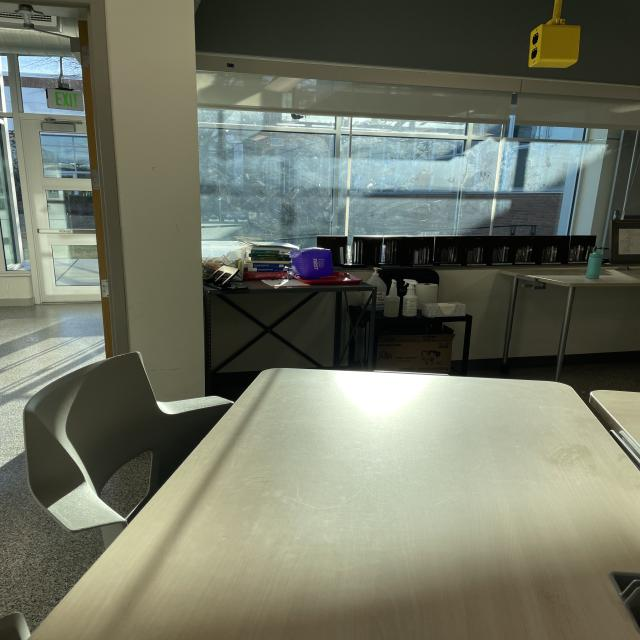frc_cube: (288, 244, 339, 282)
